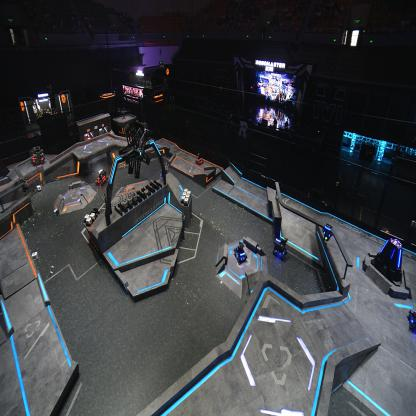car: (272, 236, 288, 260), (233, 240, 248, 265), (29, 146, 45, 166), (406, 305, 416, 333), (94, 168, 108, 186), (158, 161, 170, 181), (195, 152, 204, 164), (85, 133, 92, 144)
